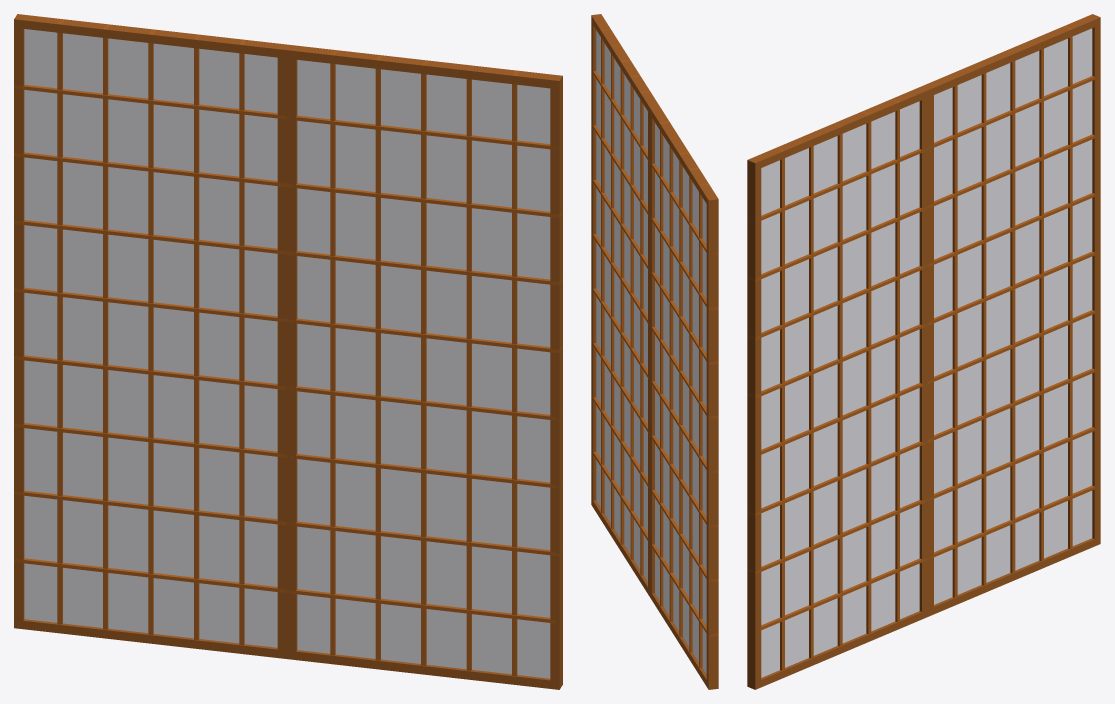
Rendered from Big Inside Wall.fbx.
3 views of the same model, side by side, from view 1: azimuth 30°, elevation 25°; view 2: azimuth 150°, elevation 25°; view 3: azimuth 270°, elevation 25° (orthographic). The views are drawn at different scales.
Visible parts, largest first — view 1: Big_Wall1; view 2: Big_Wall1; view 3: Big_Wall1.
Boxes of the visible parts, x1,y1,x2,y2 form: Big_Wall1: (14, 14, 562, 689); Big_Wall1: (591, 14, 718, 689); Big_Wall1: (747, 14, 1100, 689).
Size of the model in its own units: 321 by 529 by 321.
